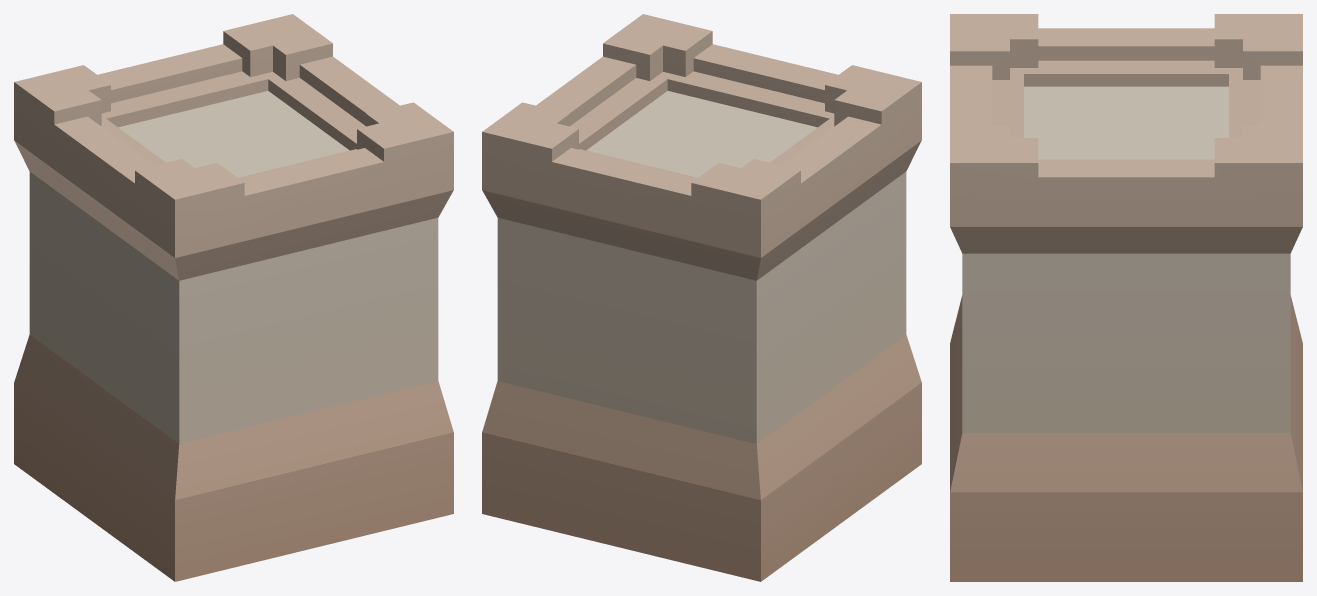
File: tower-square.glb
3 views of the same model, side by side, from view 1: azimuth 30°, elevation 25°; view 2: azimuth 150°, elevation 25°; view 3: azimuth 270°, elevation 25° (orthographic). The views are drawn at different scales.
Visible parts, largest first — view 1: tower-square; view 2: tower-square; view 3: tower-square.
Part boxes in pixels (bbox=[...]): tower-square: bbox=[14, 14, 453, 581]; tower-square: bbox=[482, 14, 921, 581]; tower-square: bbox=[950, 14, 1302, 581].
Bounding box in the file's own units: 1 × 1.31 × 1.
